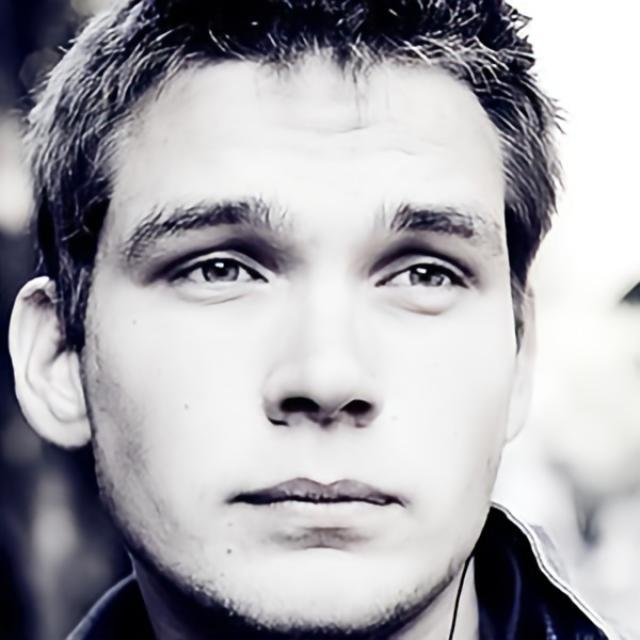sad: (97, 63, 515, 636)
